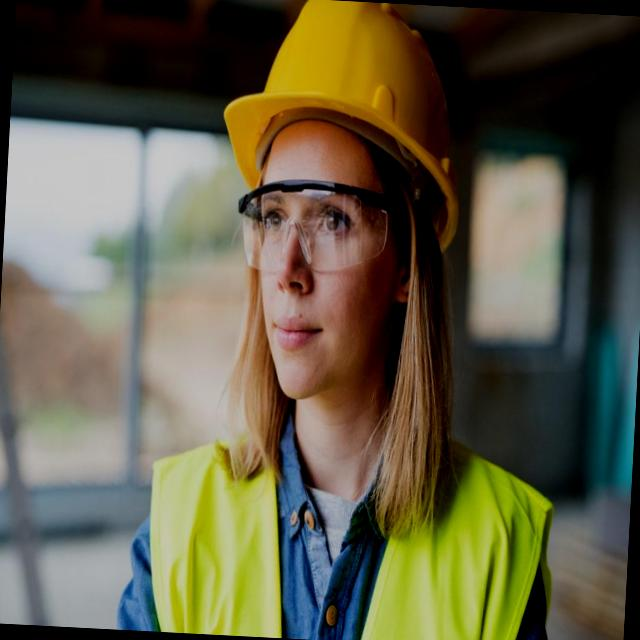goggles: (225, 183, 392, 284)
helmet: (253, 0, 467, 205)
vest: (139, 424, 558, 640)
